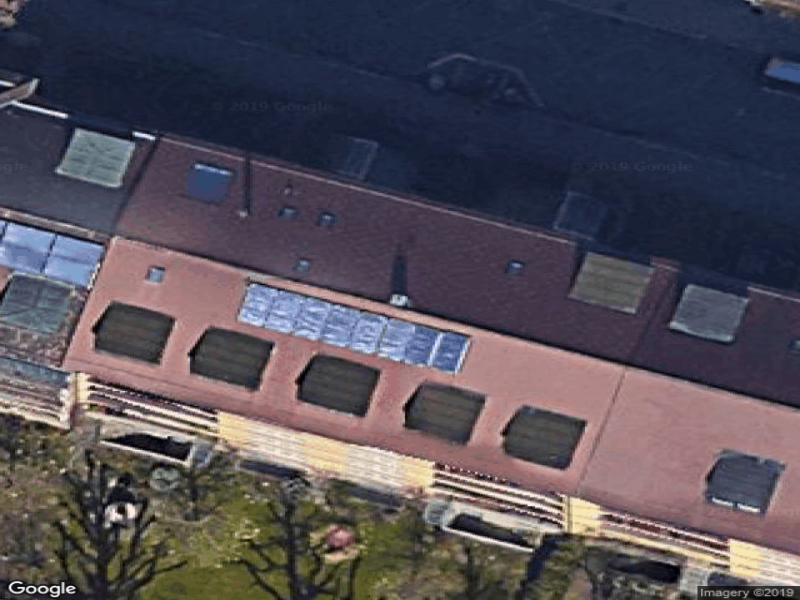pv: (238, 282, 471, 375), (1, 218, 106, 288)
